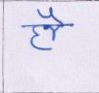au_matra: (42, 9, 65, 39)
